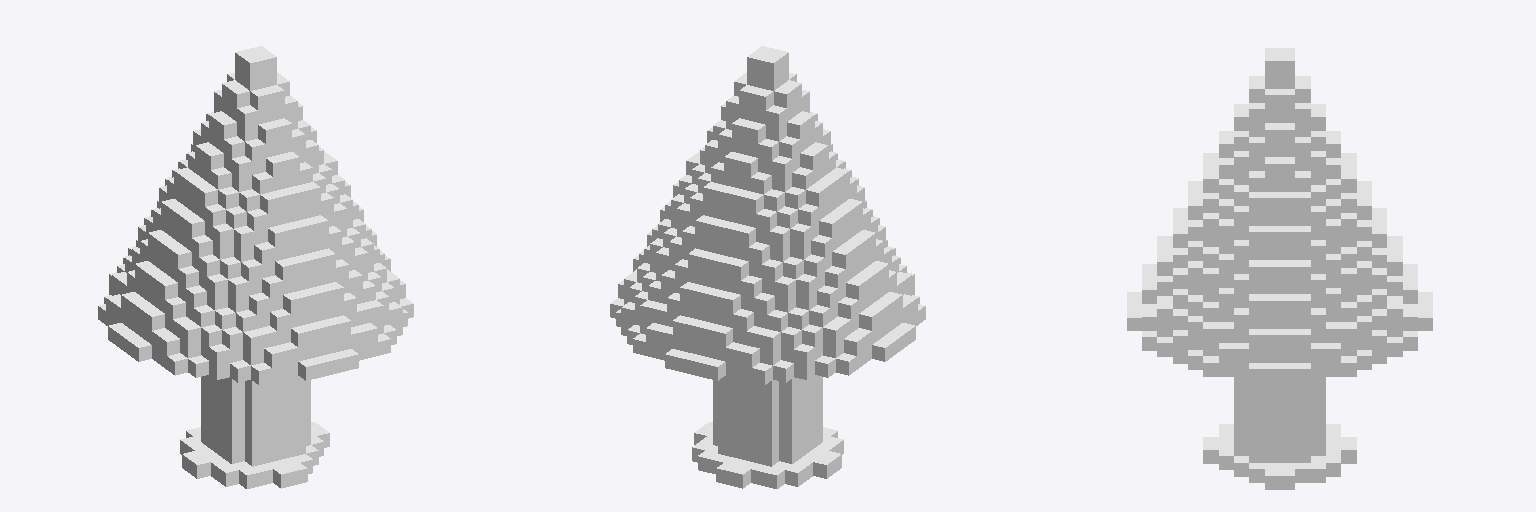
File: treeWiiin.obj
3 renders of one model, left to right at view 1: azimuth 30°, elevation 25°; view 2: azimuth 150°, elevation 25°; view 3: azimuth 270°, elevation 25°, orthographic.
Visible parts, largest first — view 1: object 1; view 2: object 1; view 3: object 1.
Part boxes in pixels (left/top/right/bottom): object 1: left=98, top=46, right=413, bottom=488; object 1: left=610, top=46, right=925, bottom=488; object 1: left=1127, top=48, right=1432, bottom=489.
Size of the model in its own units: 2 by 2.9 by 2.